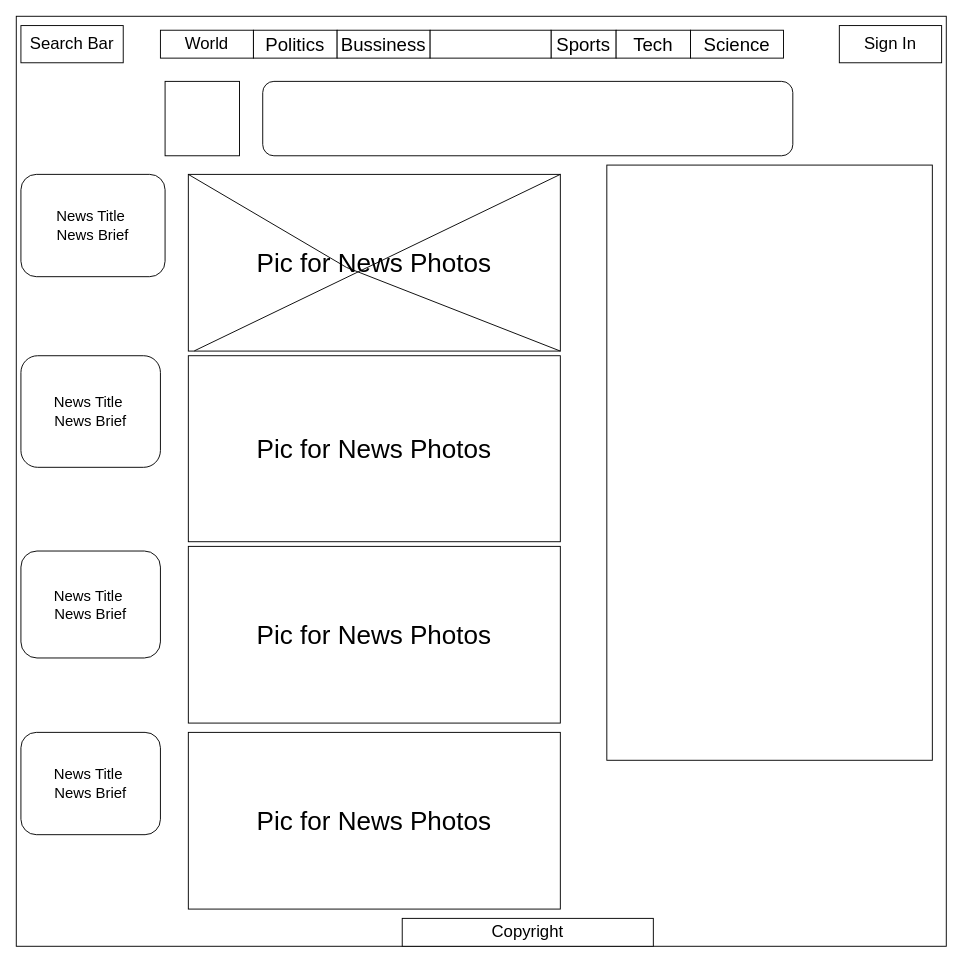
Some shapes in this 963 by 963 pixel diagram are drawn without their labels. The box of each missing label's shape, as (x1, y1, x2, y2) in pixels:
Entertainment: (429, 29, 551, 58)
Hotest: (606, 164, 932, 760)
Logo: (164, 80, 239, 156)
Website's Name: (262, 80, 793, 156)
